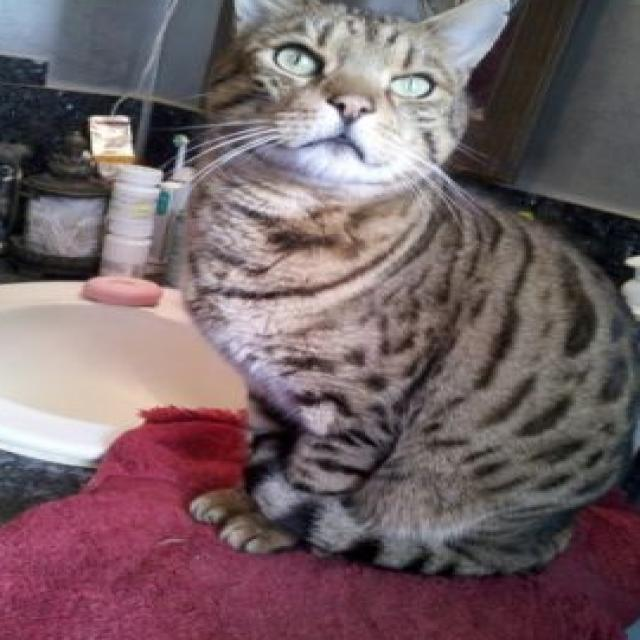Bengal: (168, 0, 640, 587)
